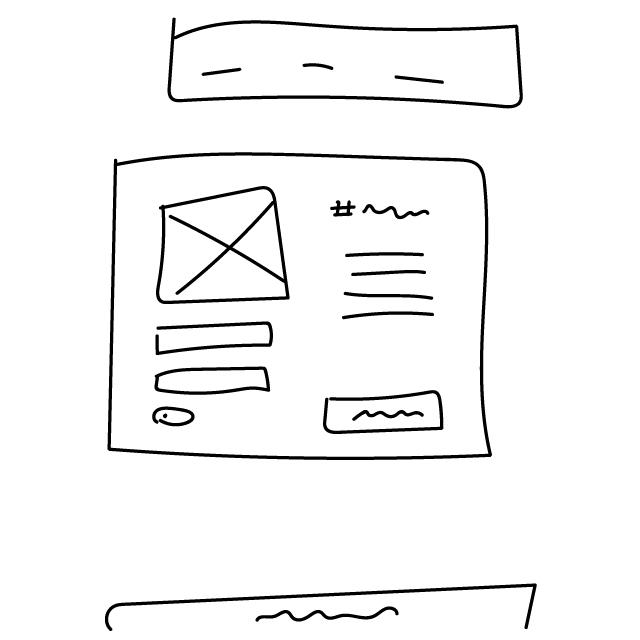button: (322, 387, 447, 437)
checkbox: (151, 404, 201, 429)
container: (99, 144, 512, 482)
footer: (94, 580, 550, 640)
frame: (151, 184, 299, 309)
heading: (328, 193, 436, 229)
input: (152, 319, 278, 357), (156, 363, 279, 400)
nav: (165, 12, 530, 116)
text: (336, 247, 448, 330)
